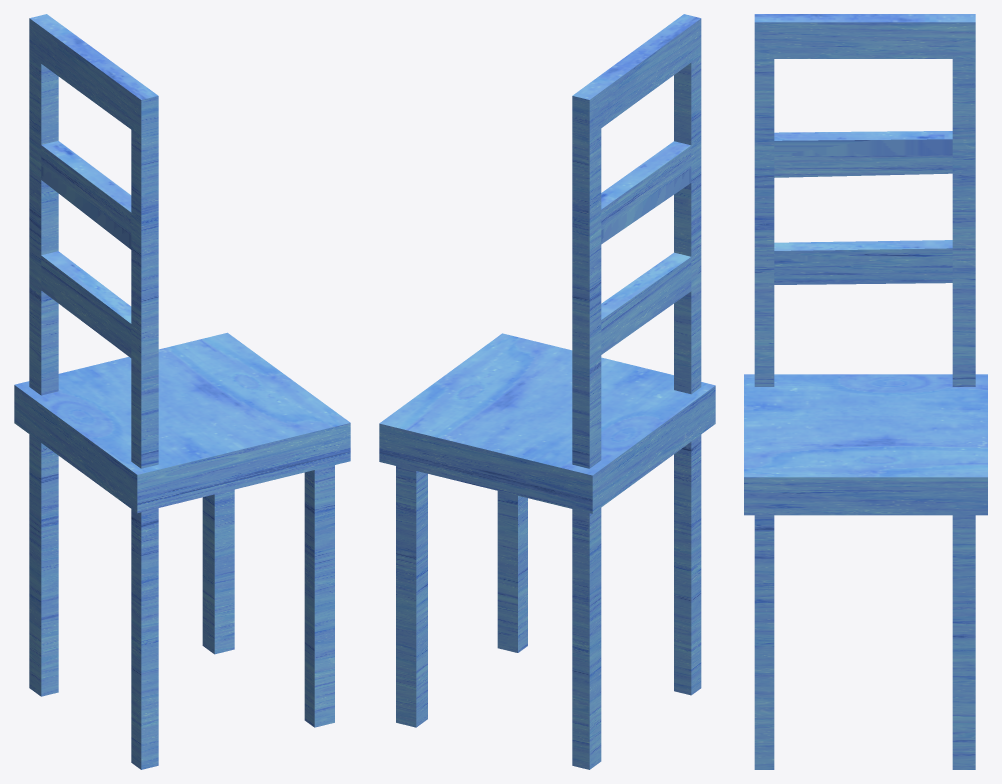
The model's file is cadeira_1.fbx.
3 views of the same model, side by side, from view 1: azimuth 30°, elevation 25°; view 2: azimuth 150°, elevation 25°; view 3: azimuth 270°, elevation 25° (orthographic).
Parts seen in each view (by area): view 1: Cadeira; view 2: Cadeira; view 3: Cadeira.
Part boxes in pixels (x1,y1,x2,y2): Cadeira: (14,14,350,769); Cadeira: (379,14,715,769); Cadeira: (744,14,987,769).
Size of the model in its own units: 27 by 81 by 27.
